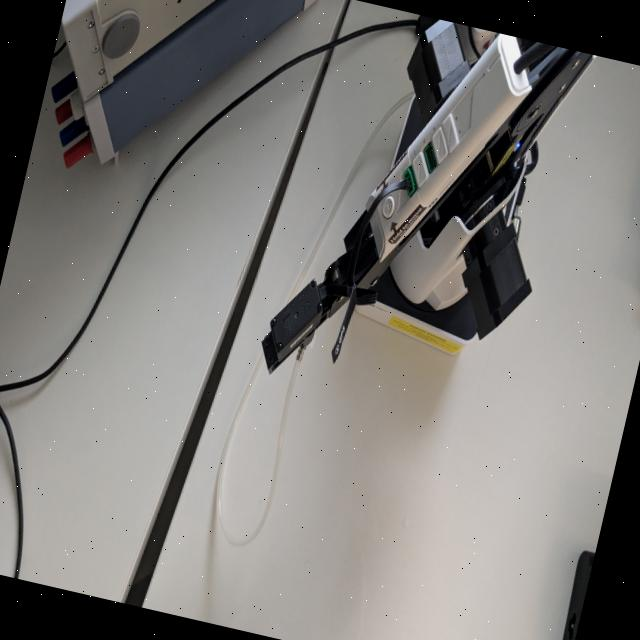Robot-end-effector-HF8z: (251, 266, 336, 388)
